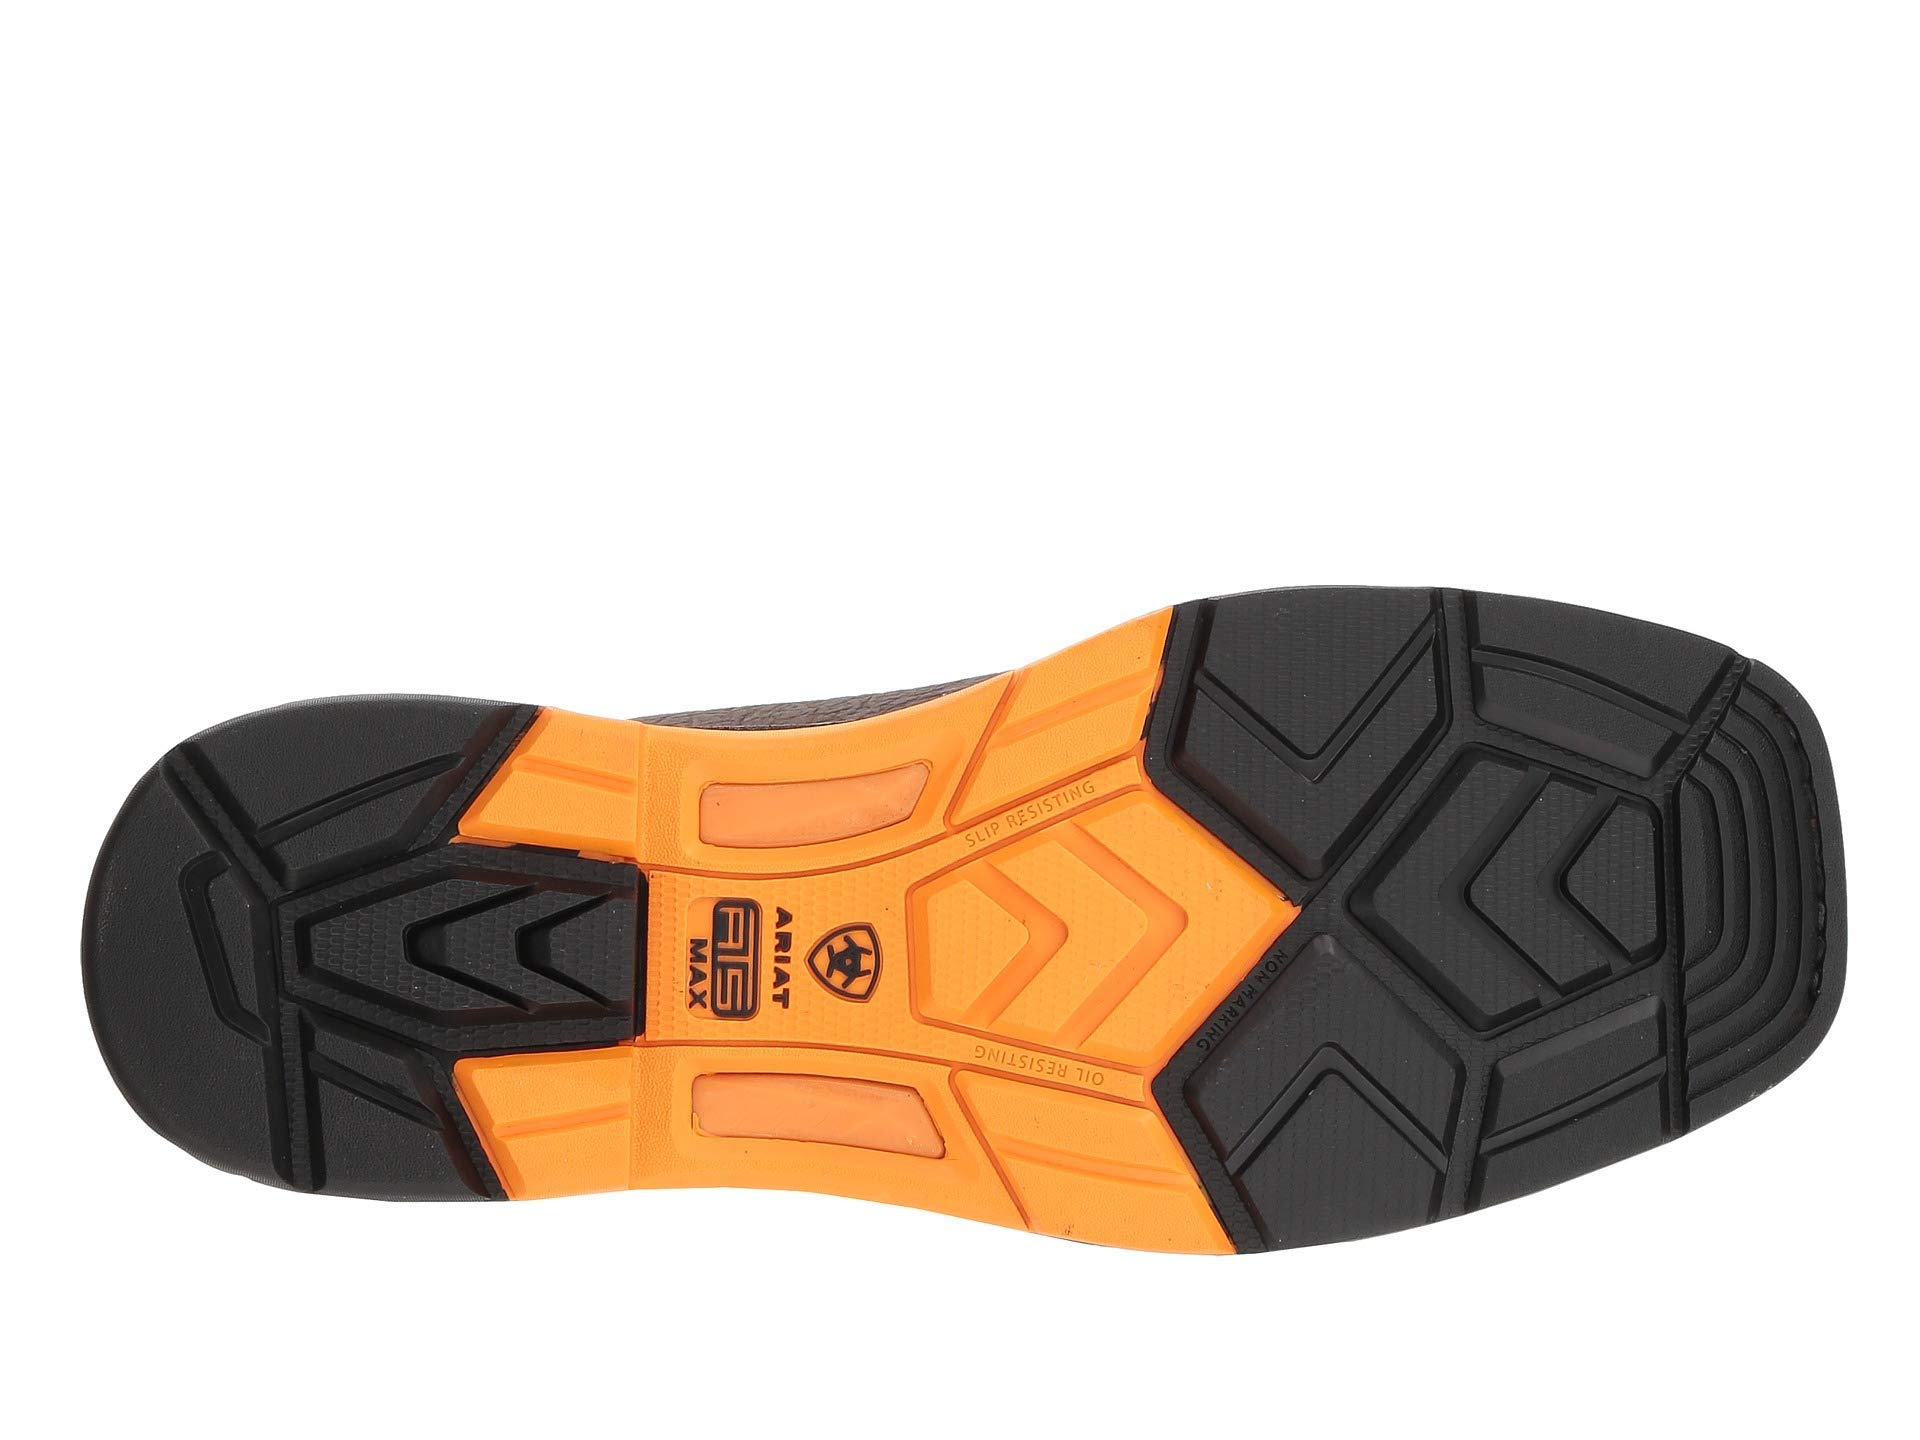chevron: (1297, 655, 1722, 1113), (844, 768, 1270, 1142)
polygon: (1297, 655, 1722, 1113), (844, 768, 1270, 1142)
quad: (1297, 655, 1722, 1113)
